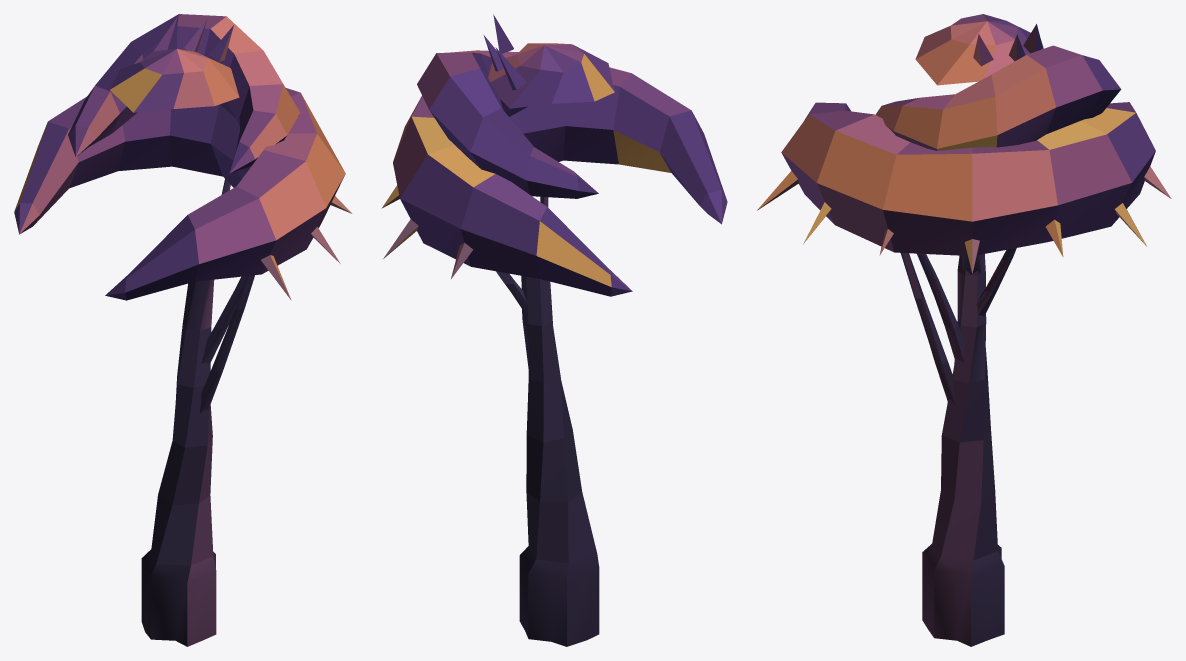
File: Dusk_Tree.glb
3 views of the same model, side by side, from view 1: azimuth 30°, elevation 25°; view 2: azimuth 150°, elevation 25°; view 3: azimuth 270°, elevation 25° (orthographic). The views are drawn at different scales.
Visible parts, largest first — view 1: Dusk_Tree; view 2: Dusk_Tree; view 3: Dusk_Tree.
Part boxes in pixels (x1,y1,x2,y2): Dusk_Tree: [14, 14, 351, 646]; Dusk_Tree: [381, 14, 727, 646]; Dusk_Tree: [757, 14, 1171, 646].
Bounding box in the file's own units: 5.92 × 12.41 × 7.49.
